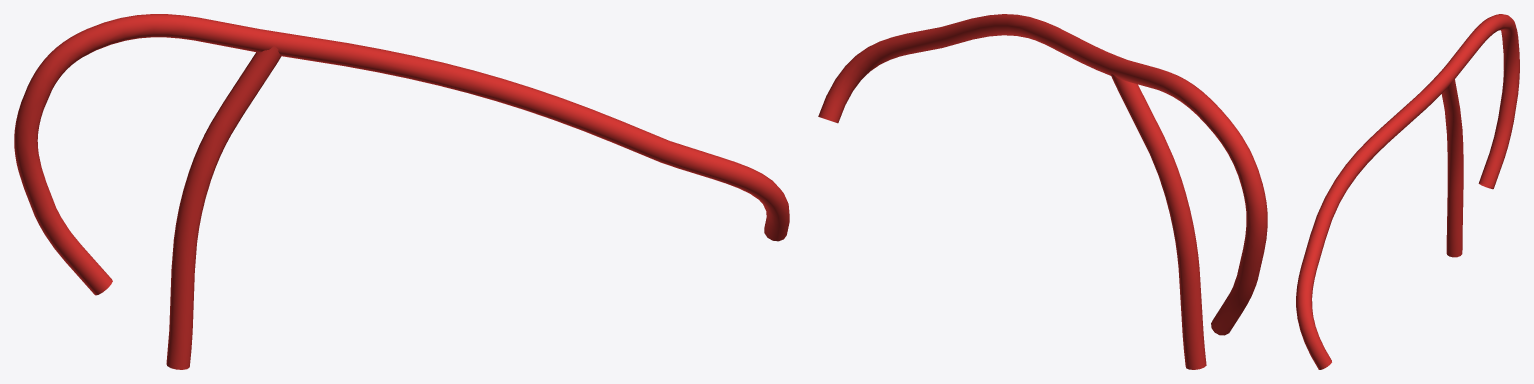
The model's file is circulatorio-middle-colic-artery.glb.
3 views of the same model, side by side, from view 1: azimuth 30°, elevation 25°; view 2: azimuth 150°, elevation 25°; view 3: azimuth 270°, elevation 25° (orthographic). The views are drawn at different scales.
Parts seen in each view (by area): view 1: Middle colic artery; view 2: Middle colic artery; view 3: Middle colic artery.
Part boxes in pixels (x1,y1,x2,y2): Middle colic artery: [14, 14, 789, 369]; Middle colic artery: [818, 14, 1267, 369]; Middle colic artery: [1296, 14, 1519, 369].
Size of the model in its own units: 0.0618 by 0.0314 by 0.0278.
